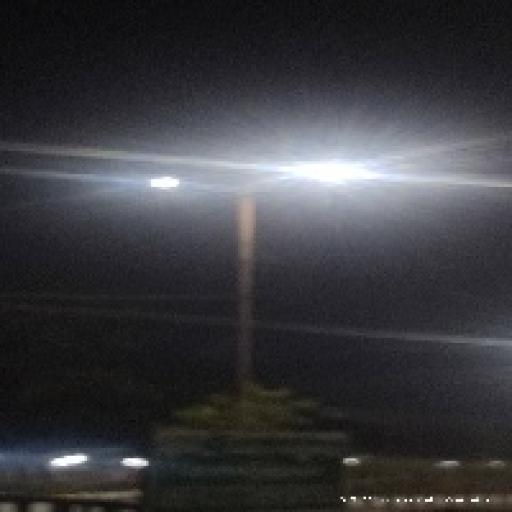Working: (276, 148, 382, 198), (142, 169, 190, 195)
